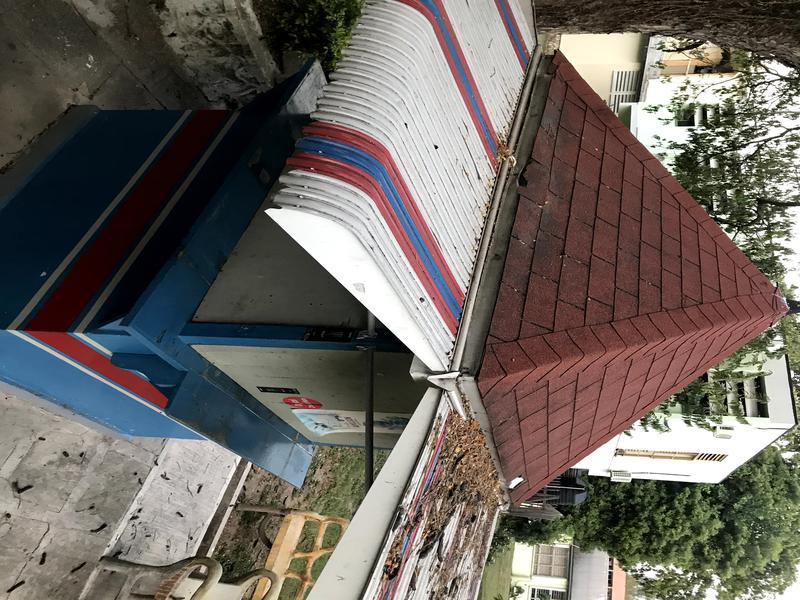18.0051667_-76.74944412_librarystall: (1, 1, 800, 505)
